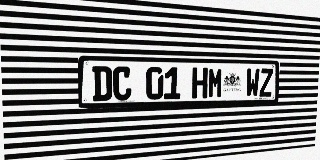0: (146, 67, 163, 100)
1: (164, 67, 181, 99)
C: (113, 66, 131, 101)
D: (92, 66, 112, 101)
H: (192, 67, 208, 99)
M: (208, 68, 223, 98)
W: (246, 68, 260, 97)
Z: (259, 68, 273, 97)
